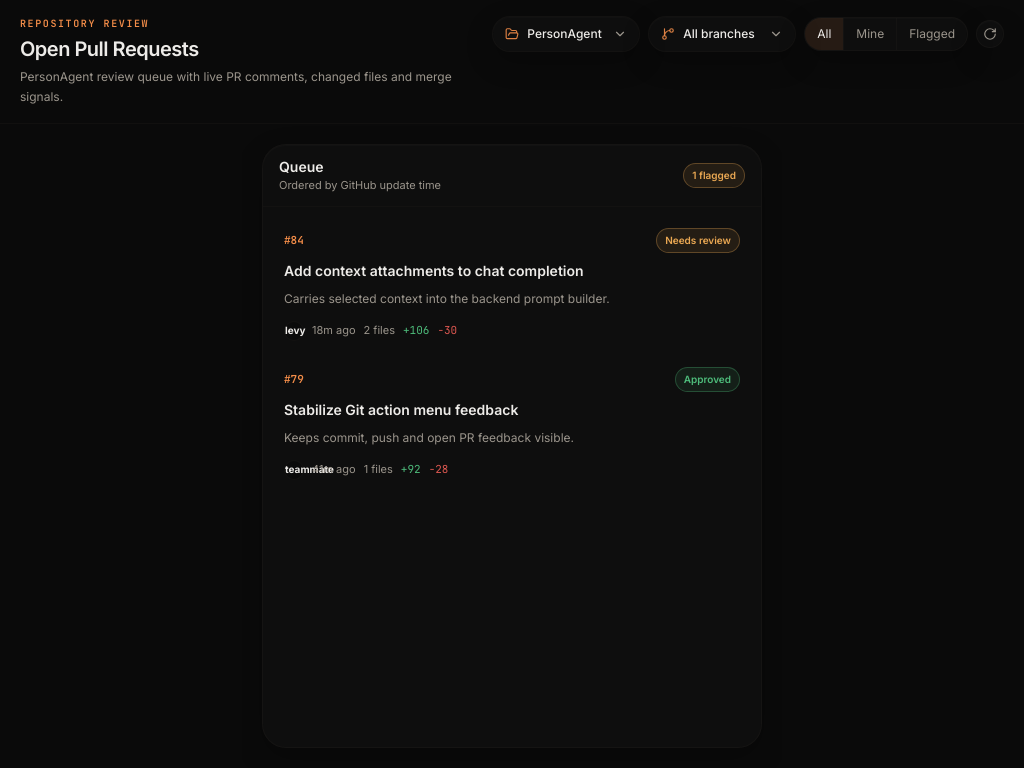
OpenPrWorkspace › filters pull requests by project, branch, mine and flagged
Click the button "Mine" at (870, 34), box [843, 18, 896, 50]
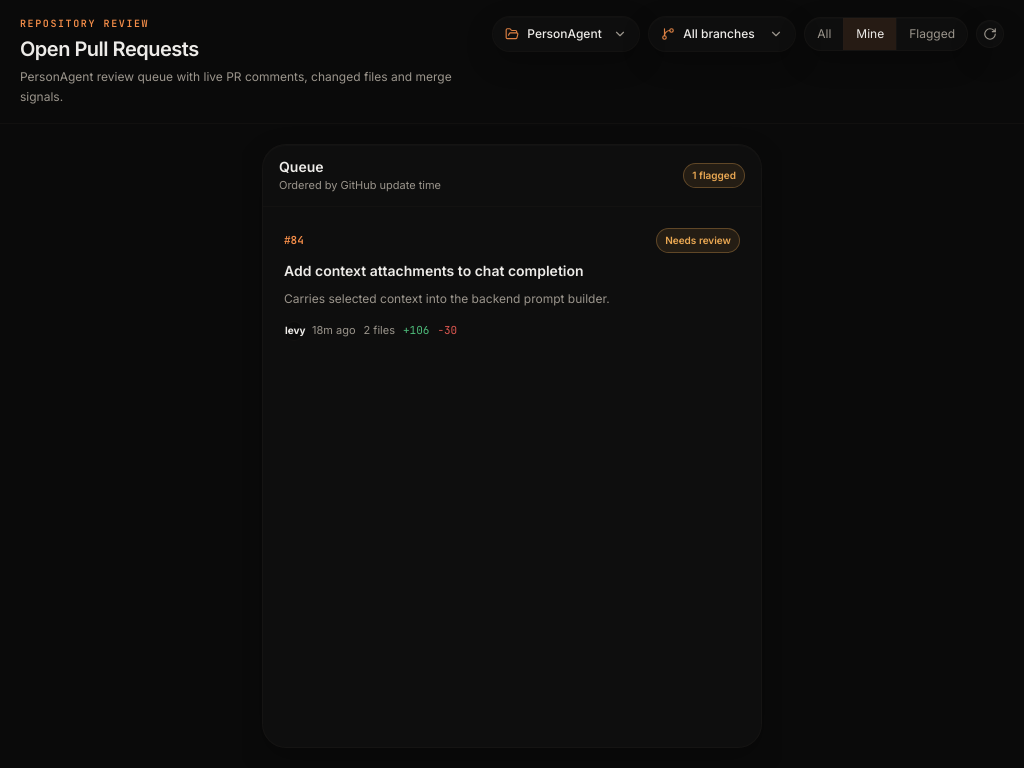
Expected: the button "Add context attachments to chat completion" is shown, [271, 214, 753, 354]
Expected: the button "Stabilize Git action menu feedback" is gone
Click the button "All" at (824, 34), box [805, 18, 843, 50]
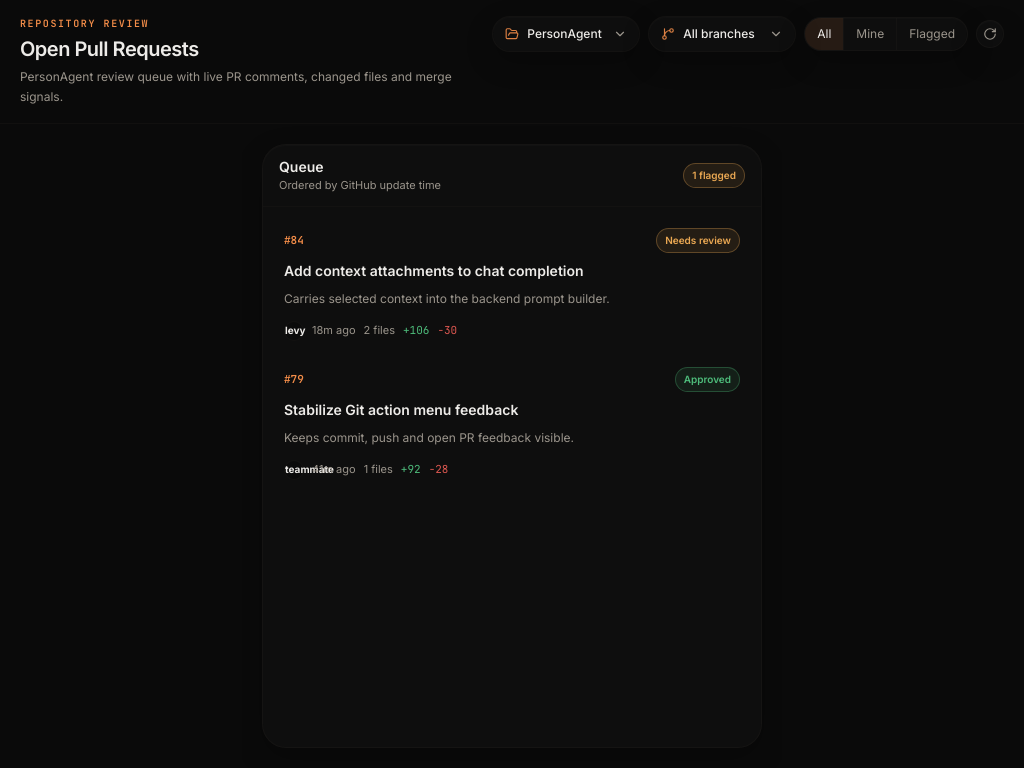
Click the button "Flagged" at (932, 34), box [896, 18, 967, 50]
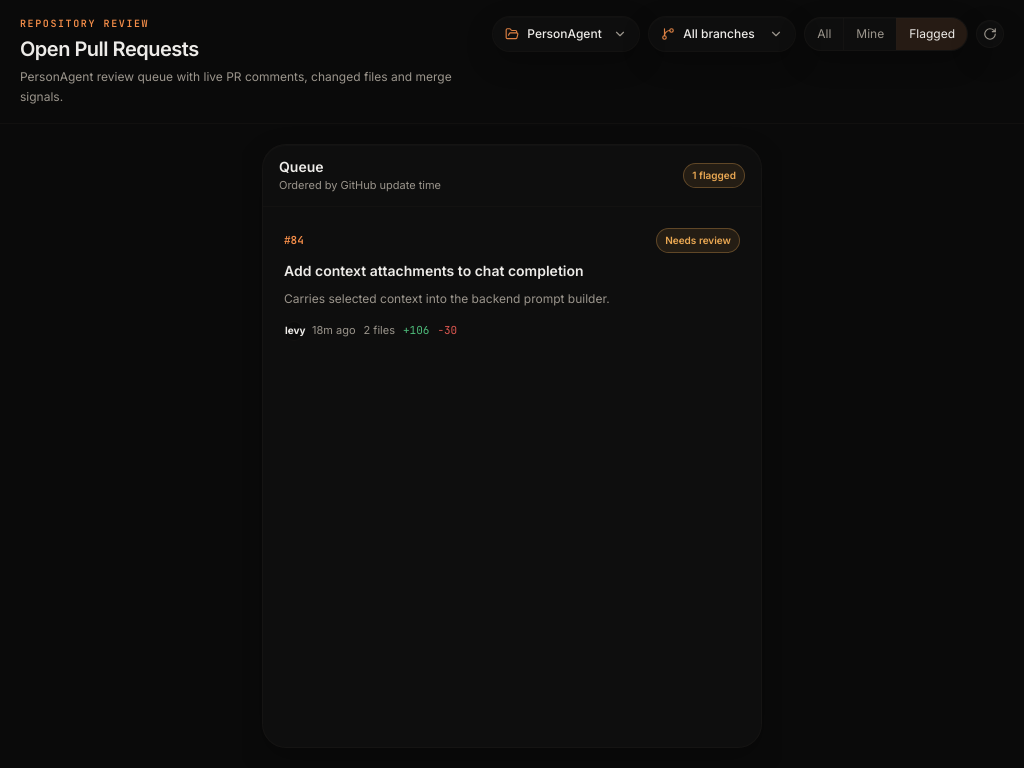
Expected: the button "Add context attachments to chat completion" is shown, [271, 214, 753, 354]
Expected: the button "Stabilize Git action menu feedback" is gone
